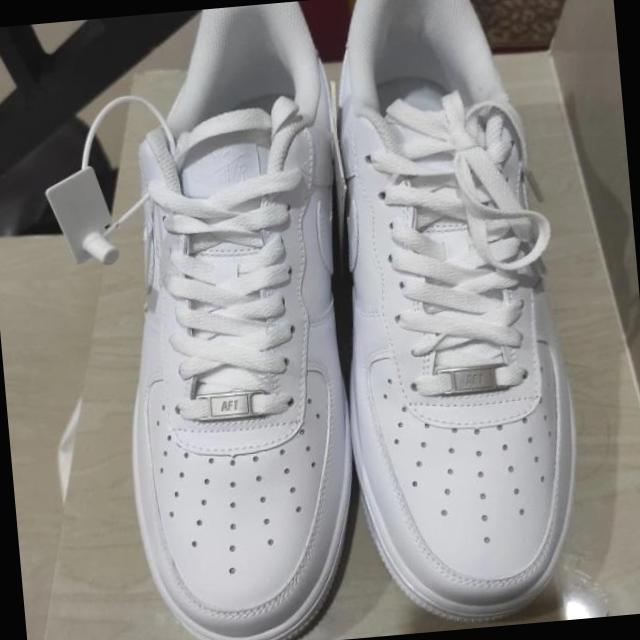nike_fake_airforce: (86, 0, 380, 640), (309, 0, 593, 637)
